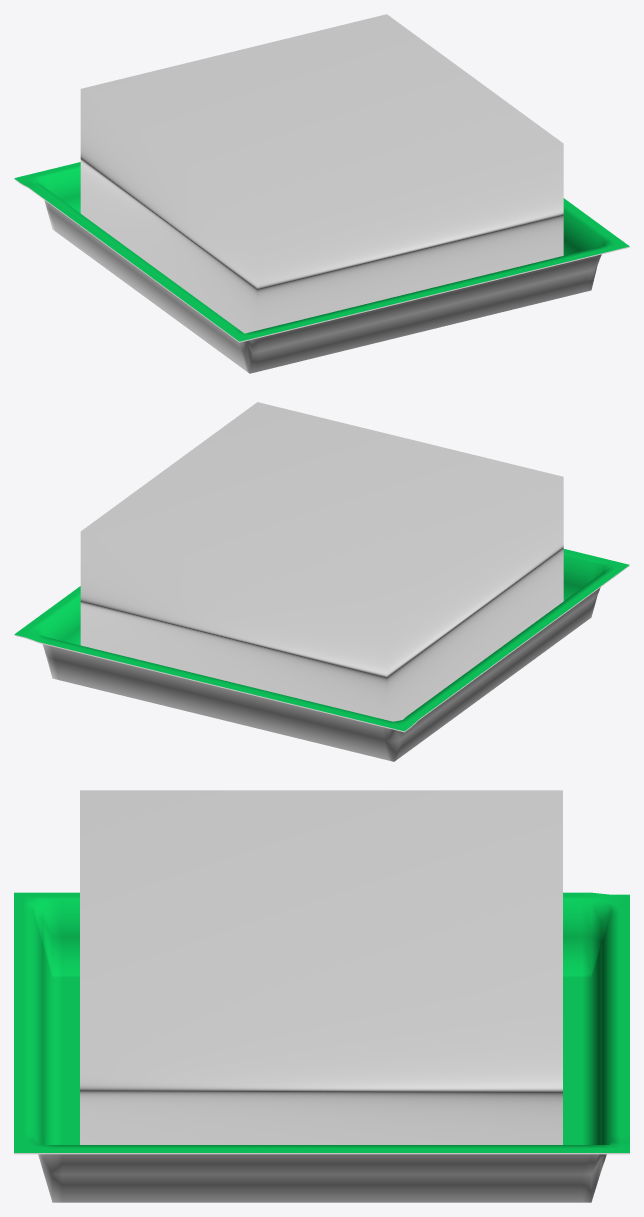
Rendered from TankModel.fbx.
3 views of the same model, one above another, from view 1: azimuth 30°, elevation 25°; view 2: azimuth 150°, elevation 25°; view 3: azimuth 270°, elevation 25° (orthographic). The views are drawn at different scales.
Visible parts, largest first — view 1: Plane_003, test_level_solid, test_level_grid; view 2: Plane_003, test_level_solid, test_level_grid; view 3: Plane_003, test_level_grid, test_level_solid.
Boxes of the visible parts, x1,y1,x2,y2 form: Plane_003: (80,14,563,333); test_level_solid: (14,179,629,373); test_level_grid: (14,162,629,341); Plane_003: (80,402,563,721); test_level_solid: (14,565,629,761); test_level_grid: (14,549,629,731); Plane_003: (80,790,562,1144); test_level_grid: (14,892,629,1152); test_level_solid: (14,1153,629,1202).
Bounding box in the file's own units: 116 × 41.62 × 116.
